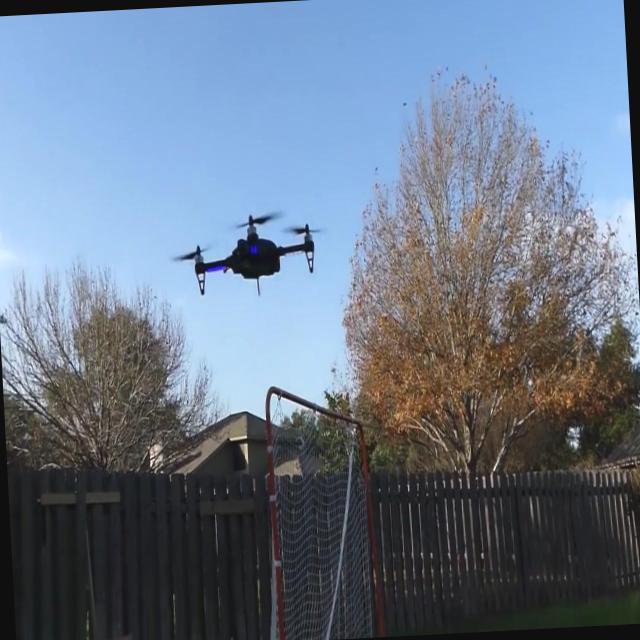drone: (177, 207, 320, 305)
